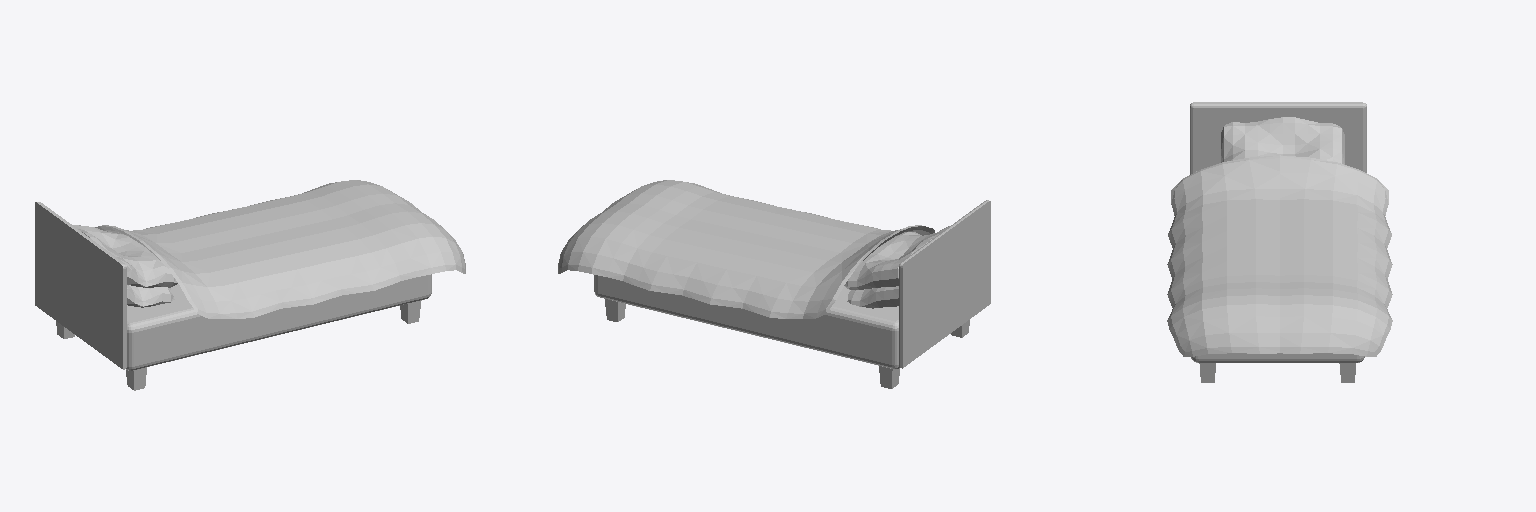
File: cama_verde.obj
3 views of the same model, side by side, from view 1: azimuth 30°, elevation 25°; view 2: azimuth 150°, elevation 25°; view 3: azimuth 270°, elevation 25° (orthographic).
Visible parts, largest first — view 1: bed_dxf_001; view 2: bed_dxf_001; view 3: bed_dxf_001.
Boxes of the visible parts, <box> form: bed_dxf_001: <box>35,180,465,390</box>; bed_dxf_001: <box>558,180,990,388</box>; bed_dxf_001: <box>1167,102,1392,382</box>.
Size of the model in its own units: 86.15 by 30.83 by 47.26.